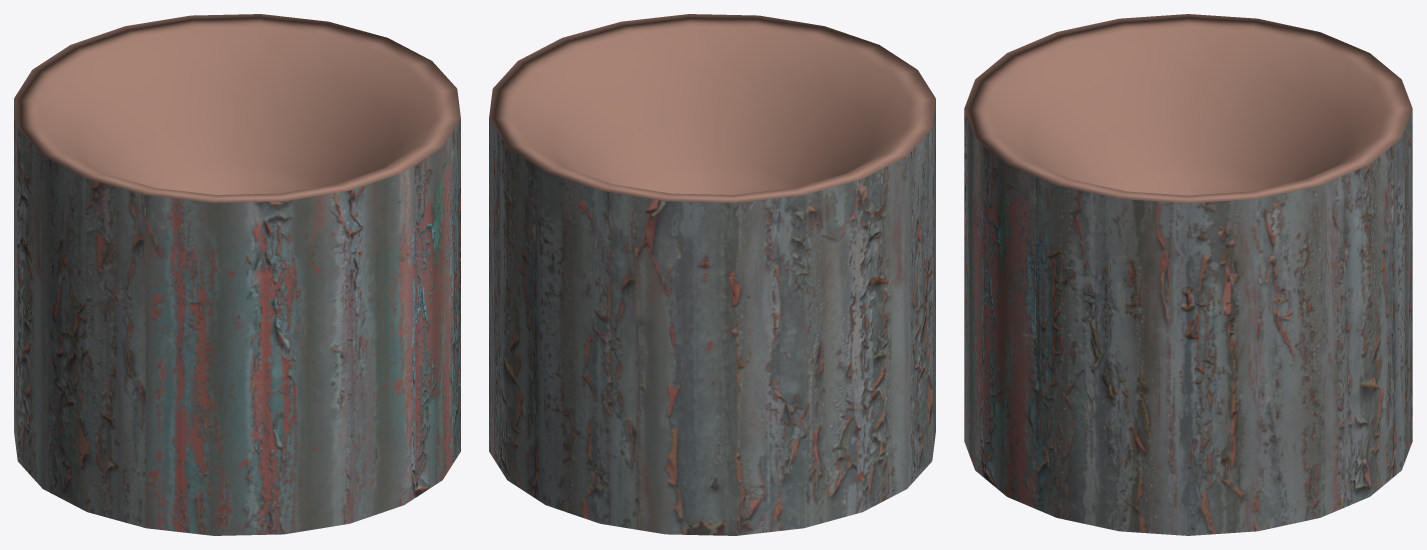
The model's file is room.fbx.
3 views of the same model, side by side, from view 1: azimuth 30°, elevation 25°; view 2: azimuth 150°, elevation 25°; view 3: azimuth 270°, elevation 25° (orthographic).
Parts seen in each view (by area): view 1: Room; view 2: Room; view 3: Room.
Part boxes in pixels (bbox=[...]): Room: bbox=[14, 14, 460, 535]; Room: bbox=[489, 14, 935, 535]; Room: bbox=[964, 14, 1412, 535].
Bounding box in the file's own units: 28.96 × 23.68 × 28.96.
